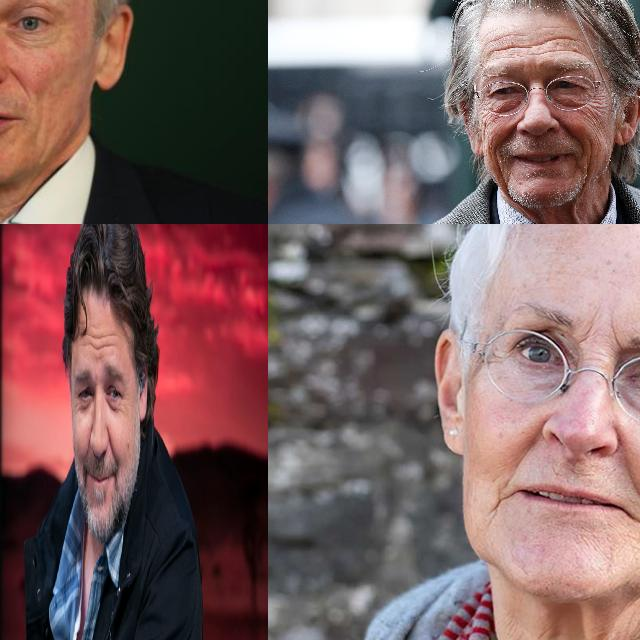crows_feet: (73, 397, 80, 416), (118, 398, 126, 414)
forehead: (83, 331, 116, 354), (550, 31, 578, 57), (486, 31, 509, 58), (519, 34, 545, 52)
frown_line: (579, 314, 625, 356)
gummy_smile: (508, 421, 540, 475), (616, 440, 640, 496), (4, 64, 26, 92), (561, 116, 583, 142), (499, 120, 519, 146), (106, 429, 114, 460), (83, 430, 92, 457)
masseter: (587, 98, 609, 126), (478, 104, 494, 138), (492, 152, 510, 182), (582, 154, 596, 192)
sad_smile: (483, 484, 512, 524), (630, 514, 640, 564)
